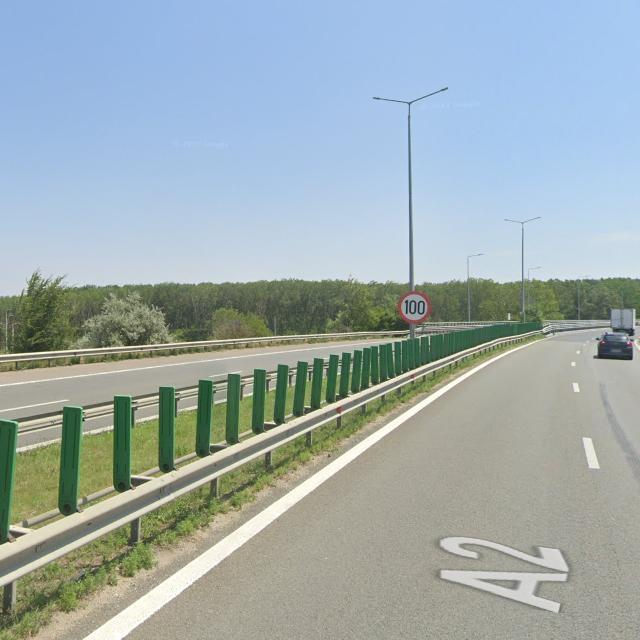forb_speed_over_100: (398, 291, 431, 324)
